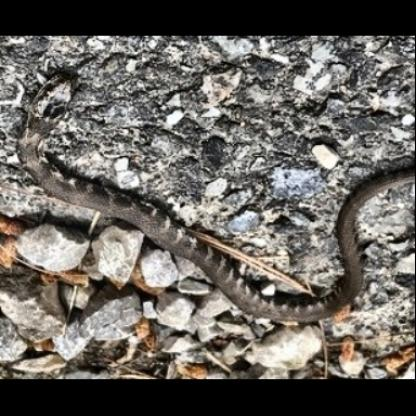Snake: (5, 62, 414, 344)
